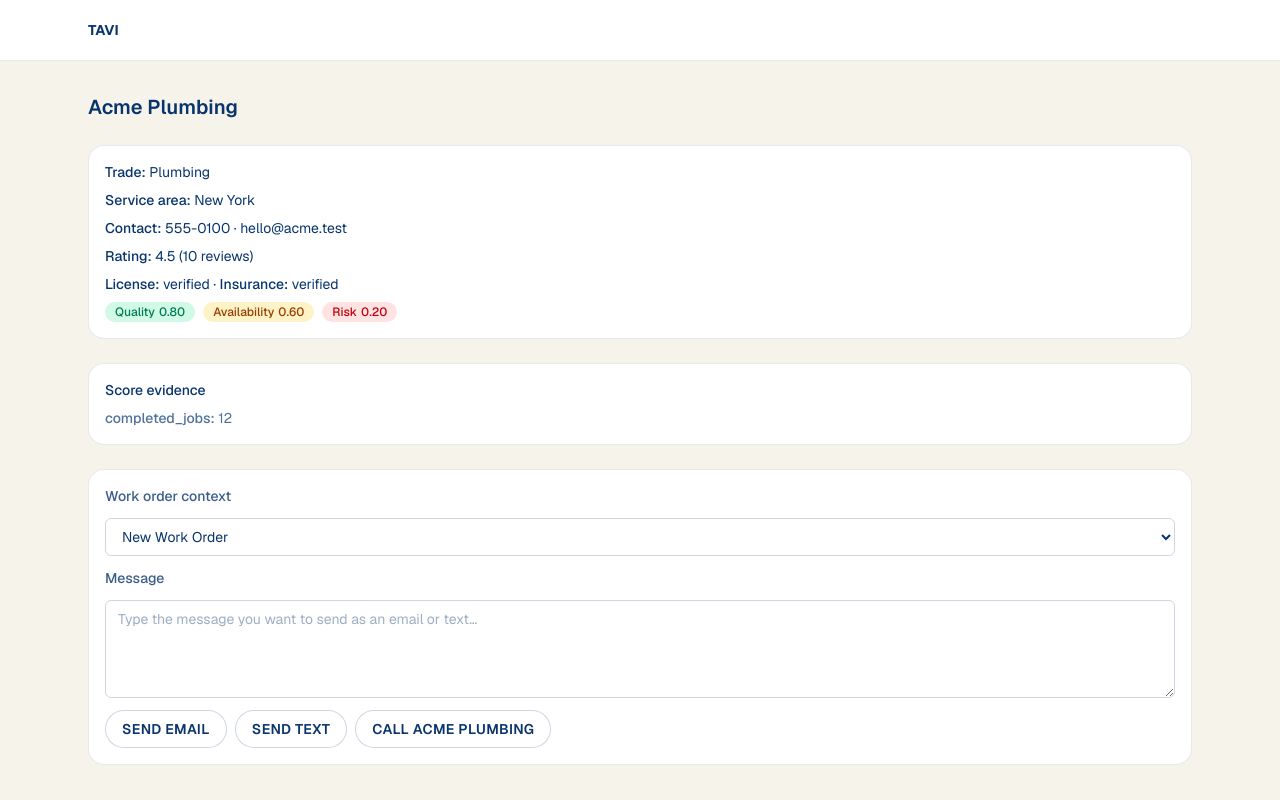
Test: VendorProfileView › requires a message before contacting a vendor directly
This screenshot has width=1280, height=800.
Check: the heading "Acme Plumbing" is shown, box [88,94,238,120]
Click the button "Send email" at (166, 729), box [105,710,227,748]
(page scrolled)
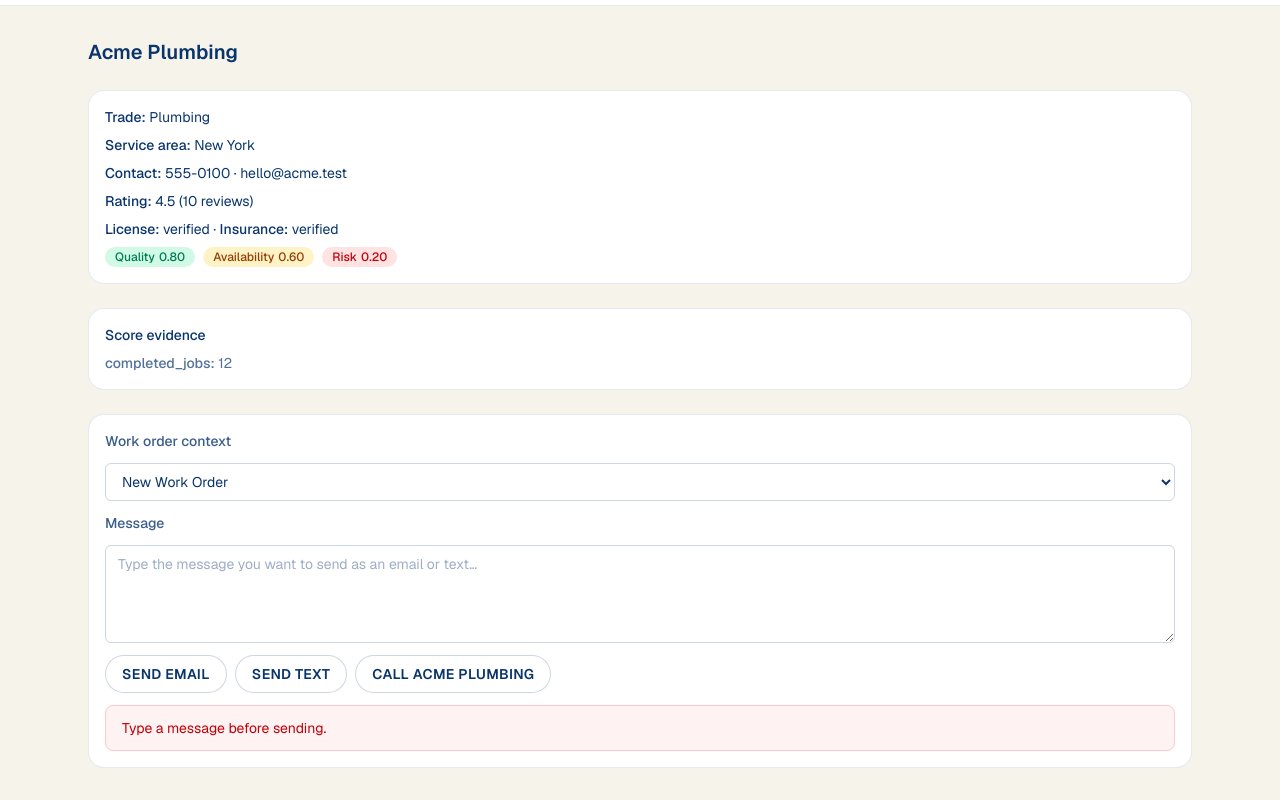
Check: the text "Type a message before sending." is shown, box [105,705,1175,751]
